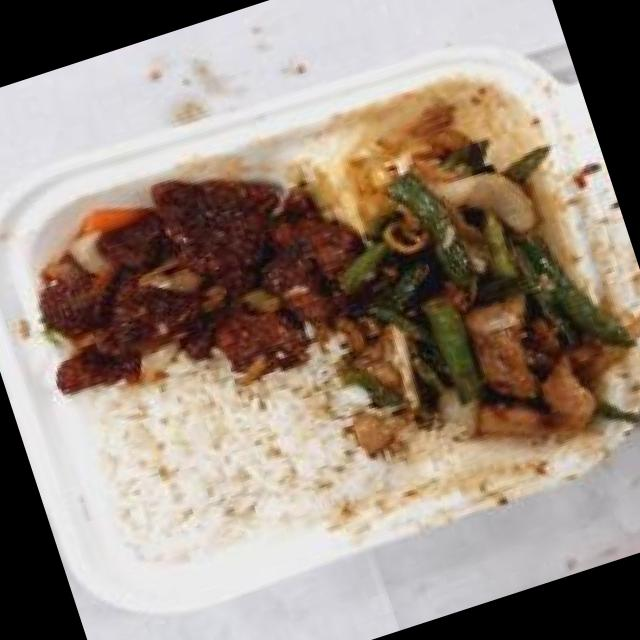Beijing Beef: (14, 132, 368, 418)
String Bean Chicken Breast: (300, 114, 640, 507)
White Steamed Rice: (85, 336, 378, 584)
